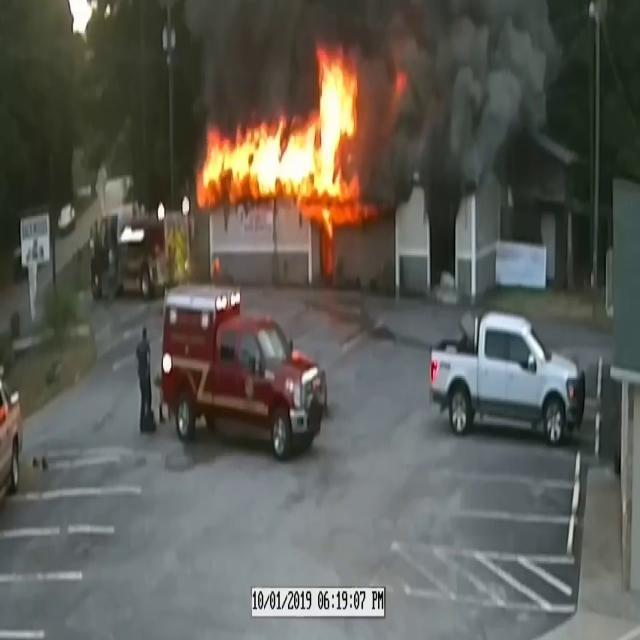Fire: (201, 50, 366, 217)
Smoke: (372, 0, 567, 222)
